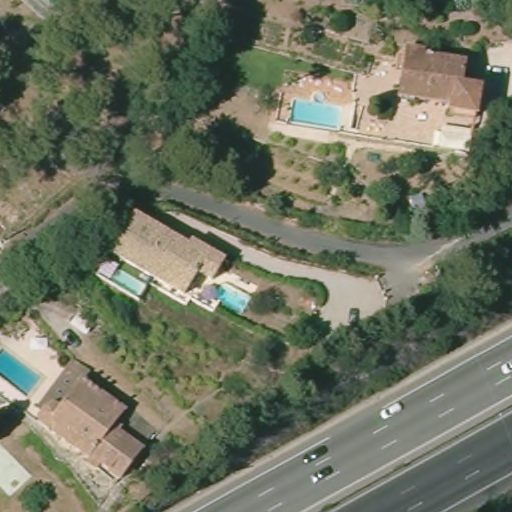pool: (280, 86, 349, 132), (1, 345, 45, 397), (101, 262, 153, 300), (210, 279, 255, 314)
